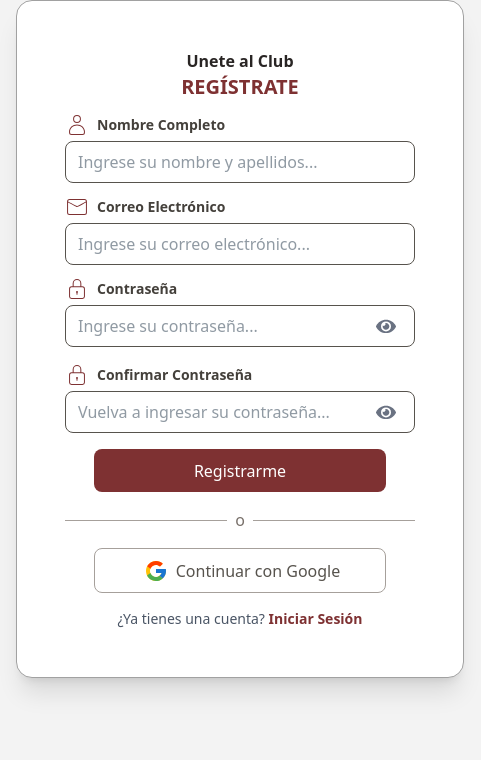
Test: Registro › muestra error cuando el registro falla
The image size is (481, 760).
// Llenar el formulario
In the field with placeholder "Ingrese su nombre y apellidos...": (240, 162) [65,141,415,183], type "Juan Pérez"
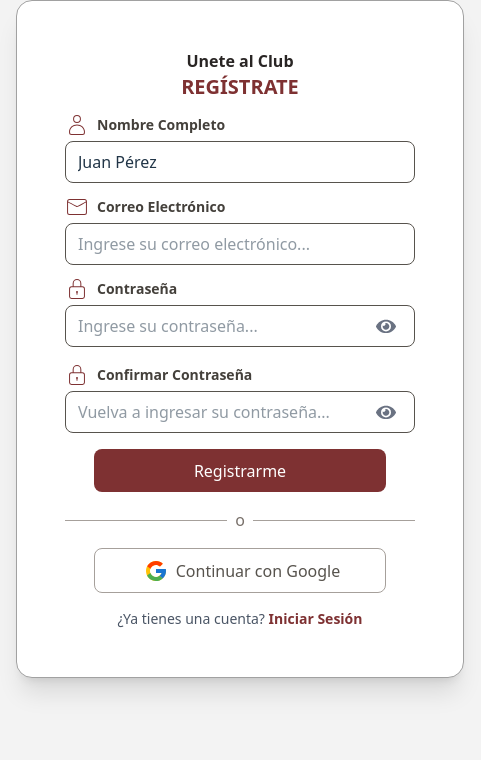
In the field with placeholder "Ingrese su correo electrónico...": (240, 244) [65,223,415,265], type "juan@example.com"
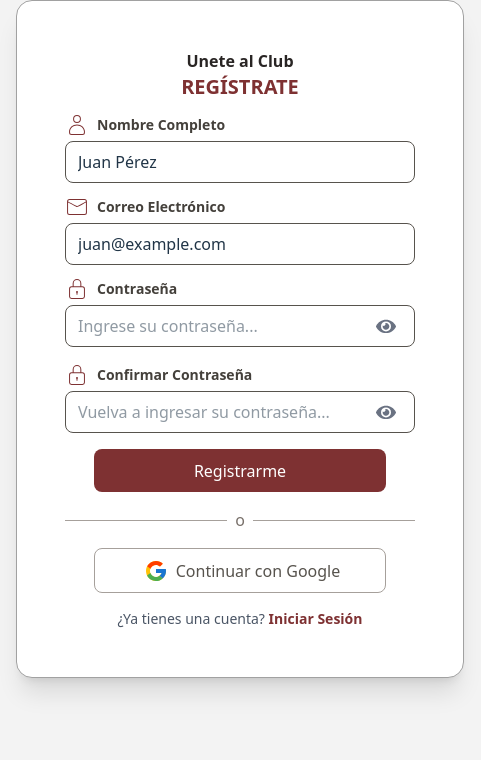
In the password field with placeholder "Ingrese su contraseña...": (240, 326) [65,305,415,347], type "password123"
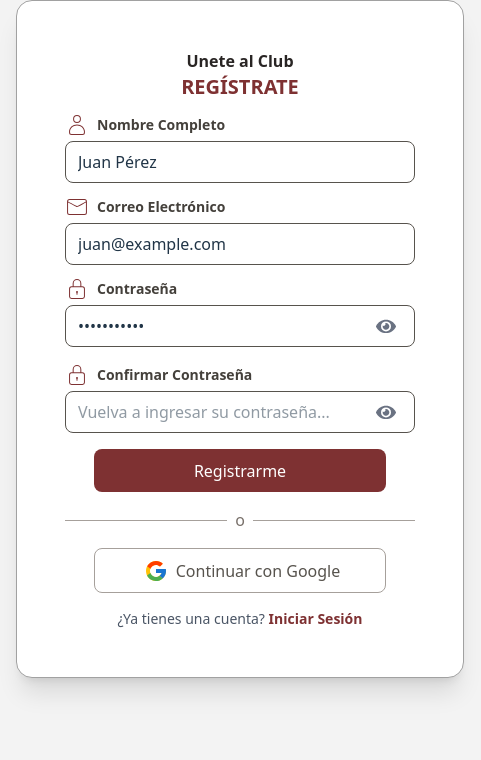
In the password field with placeholder "Vuelva a ingresar su contraseña...": (240, 412) [65,391,415,433], type "password123"
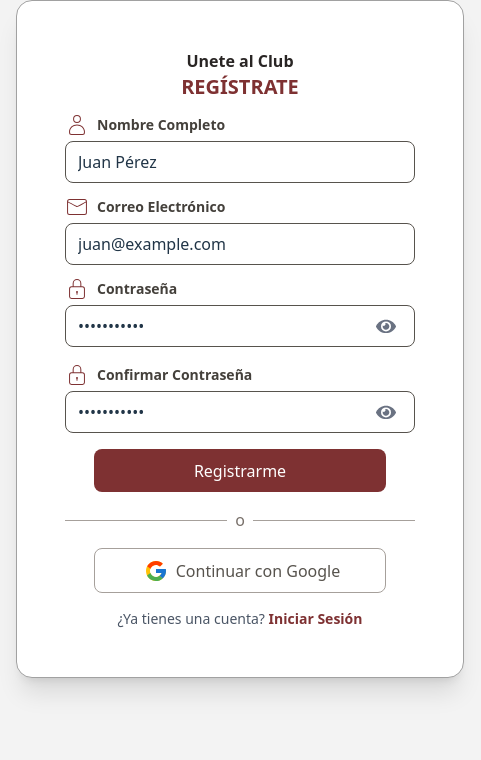
// Enviar formulario
Click the button "Registrarme": (240, 471) [94,449,386,492]
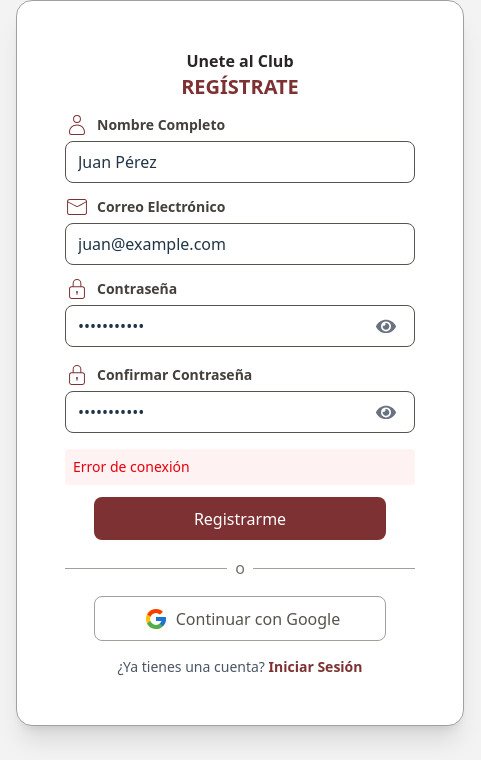
expect the text "Error de conexión" is shown: met, box [65,449,415,485]
